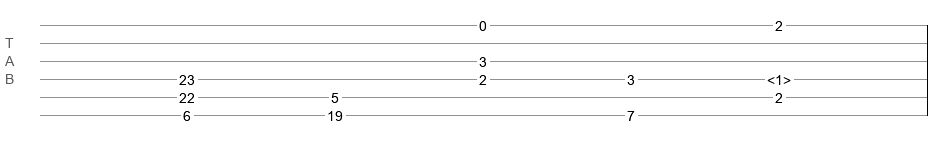0: (479, 18, 487, 28)
19: (327, 108, 343, 118)
2: (479, 72, 487, 82), (775, 18, 783, 28), (775, 90, 783, 100)
22: (179, 90, 195, 100)
23: (179, 72, 195, 82)
3: (479, 54, 487, 64), (627, 72, 635, 82)
5: (331, 90, 339, 100)
6: (183, 108, 191, 118)
7: (627, 108, 635, 118)
harmonic: (767, 72, 791, 82)
